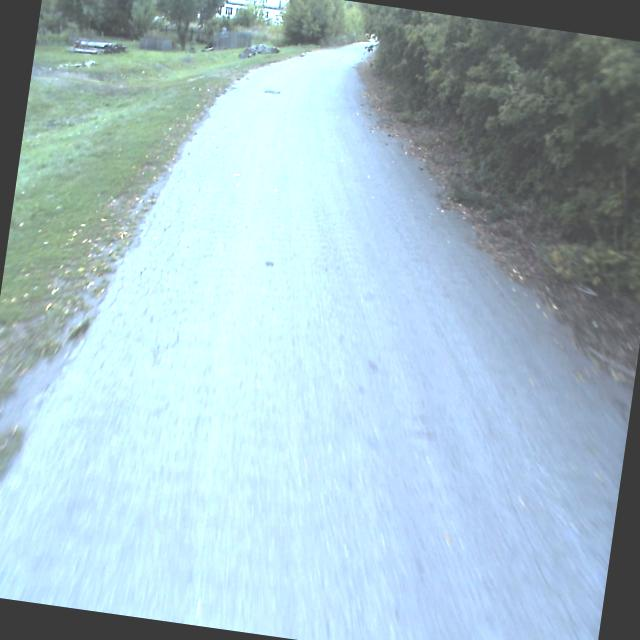road: (0, 42, 632, 640)
